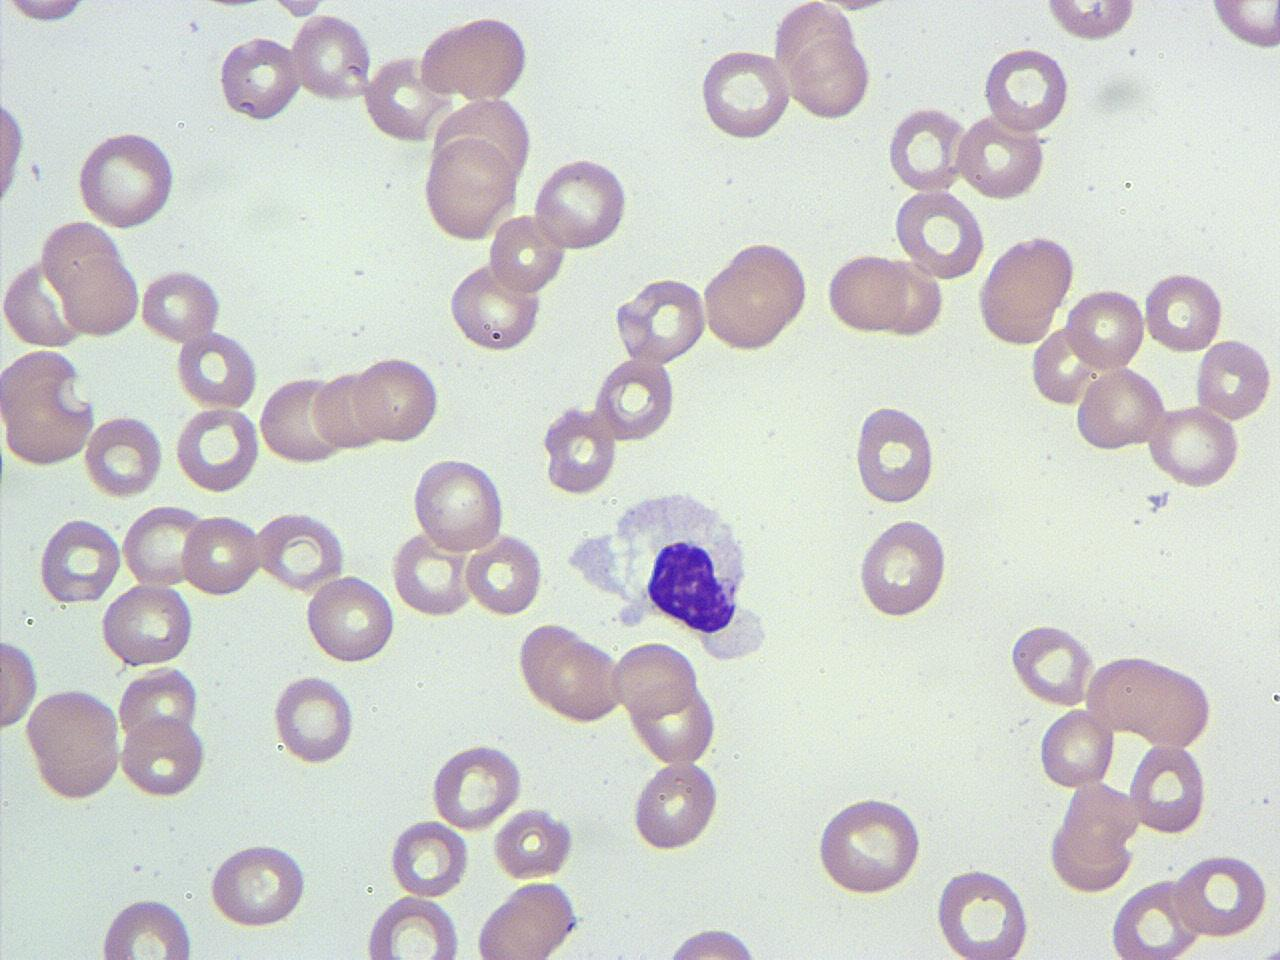Platelets: (1143, 490, 1171, 512)
RBC: (699, 238, 812, 354), (1089, 653, 1218, 749), (22, 683, 123, 804), (814, 792, 926, 898), (976, 231, 1076, 348), (0, 348, 98, 468), (74, 127, 180, 231), (420, 135, 518, 245), (418, 11, 534, 103), (854, 513, 950, 619), (531, 154, 632, 252), (410, 454, 508, 554), (932, 866, 1035, 960), (206, 839, 310, 931), (446, 260, 544, 355), (428, 740, 528, 832), (852, 400, 938, 505), (698, 46, 792, 142), (1173, 850, 1273, 940), (472, 879, 583, 960), (304, 570, 397, 666), (629, 757, 721, 854), (612, 276, 710, 367), (892, 187, 986, 280), (98, 581, 196, 669), (770, 2, 855, 103), (351, 353, 442, 445), (1073, 364, 1167, 454), (38, 219, 135, 306), (363, 50, 450, 146), (981, 44, 1071, 135), (271, 672, 358, 766), (1, 256, 87, 352), (628, 678, 719, 767), (215, 33, 304, 124), (954, 113, 1047, 201), (257, 372, 344, 466), (173, 403, 260, 496), (1146, 404, 1242, 488), (117, 711, 208, 799), (1126, 740, 1208, 836), (255, 508, 349, 592), (1008, 620, 1097, 708), (788, 33, 875, 123), (1142, 265, 1228, 356), (36, 515, 122, 606), (1110, 876, 1202, 960), (609, 638, 701, 722), (290, 11, 372, 106), (55, 250, 143, 338), (824, 250, 912, 337), (593, 354, 678, 443), (540, 401, 620, 496), (389, 530, 474, 618), (886, 103, 968, 194), (120, 502, 206, 588), (174, 326, 260, 411), (115, 664, 202, 748), (82, 410, 165, 498), (1063, 285, 1147, 373), (541, 635, 623, 725), (180, 510, 263, 596), (463, 531, 544, 618), (1194, 334, 1274, 423), (1036, 706, 1116, 792), (492, 803, 577, 882), (138, 265, 224, 344), (362, 893, 464, 959), (1048, 818, 1134, 894), (488, 212, 564, 296), (388, 820, 470, 898), (96, 895, 196, 959), (516, 618, 586, 708), (312, 368, 384, 452), (1041, 0, 1139, 45), (0, 634, 42, 734), (1204, 0, 1280, 54), (654, 924, 770, 958), (1, 86, 26, 219), (1, 0, 94, 25)
WBC: (557, 477, 780, 663)
